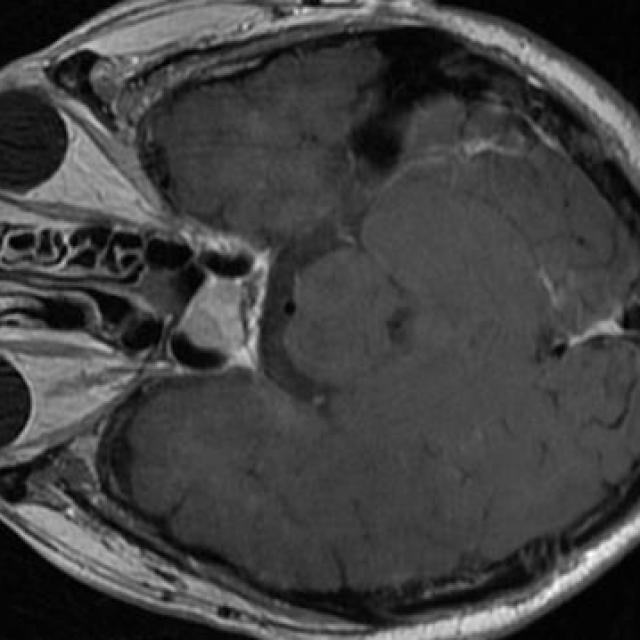pituitary: (180, 276, 242, 353)
